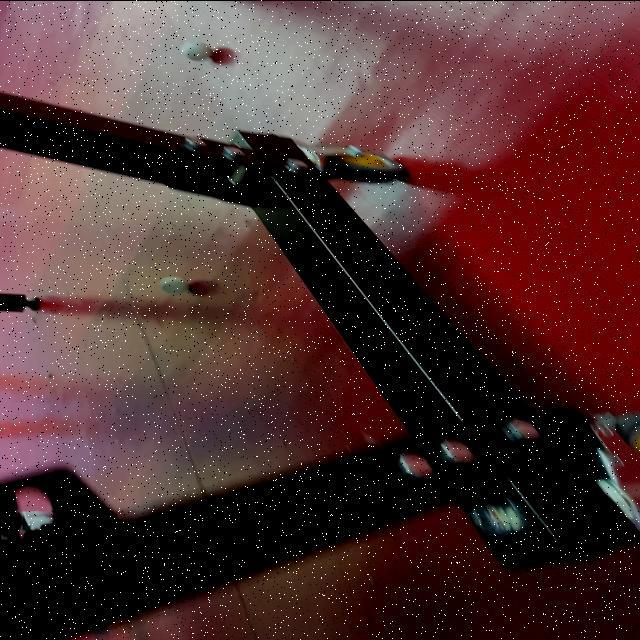ping-pong-ball: (178, 40, 214, 61)
